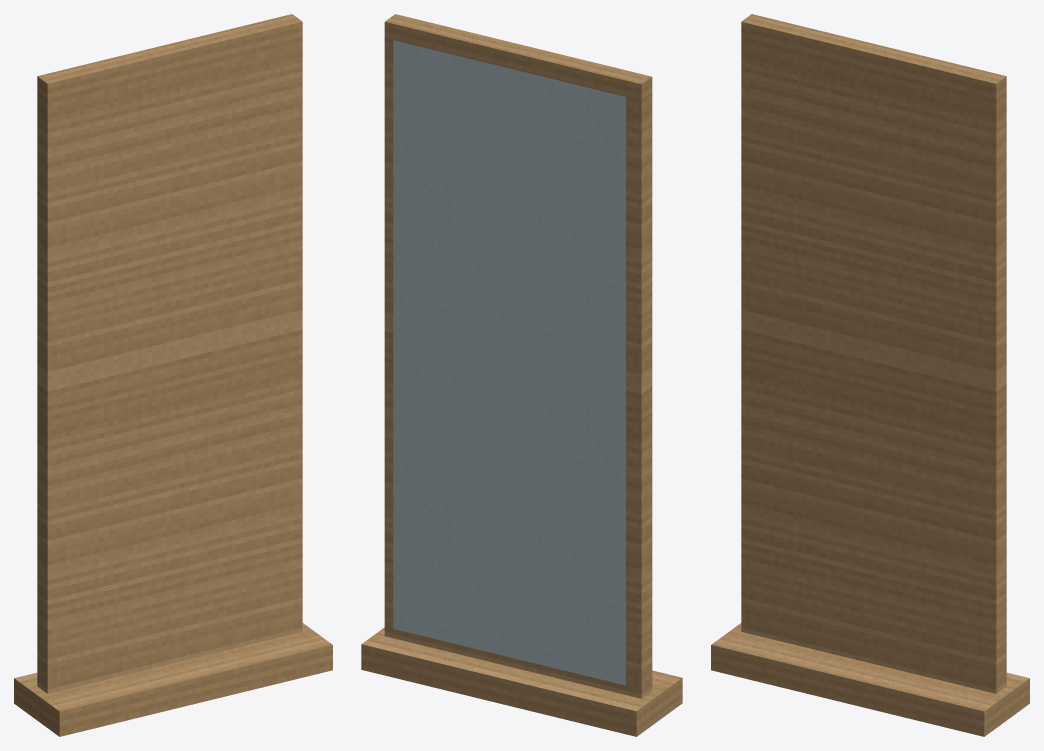
The model's file is store_mirror.glb.
The picture shows the model from 3 angles, left to right: view 1: azimuth 30°, elevation 25°; view 2: azimuth 150°, elevation 25°; view 3: azimuth 330°, elevation 25°; orthographic projection.
Visible parts, largest first — view 1: store_mirror; view 2: store_mirror; view 3: store_mirror.
Boxes of the visible parts, <box> form: store_mirror: <box>14,14,332,736</box>; store_mirror: <box>361,14,682,736</box>; store_mirror: <box>711,14,1029,736</box>.
Size of the model in its own units: 0.9 by 2 by 0.26.
2 materials, 2 textured.
